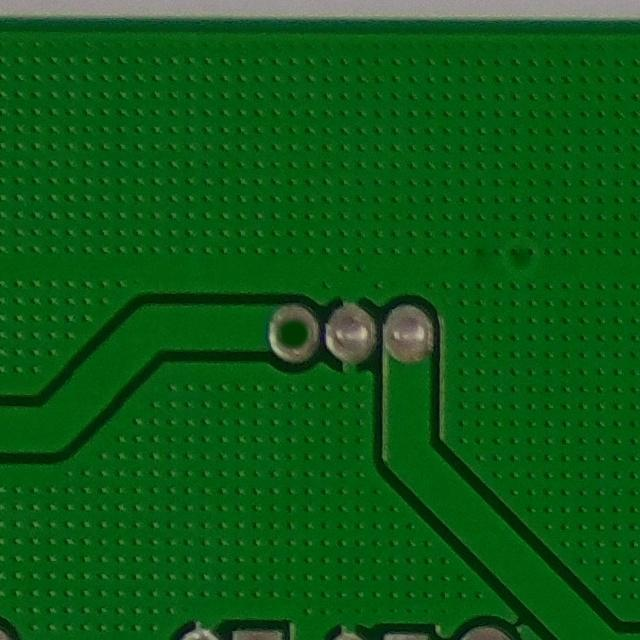missing_hole: (264, 298, 320, 365)
